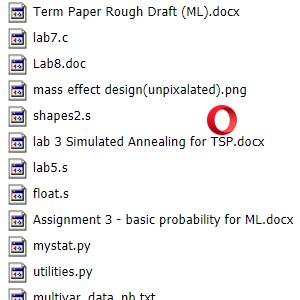opera: (207, 105, 237, 136)
